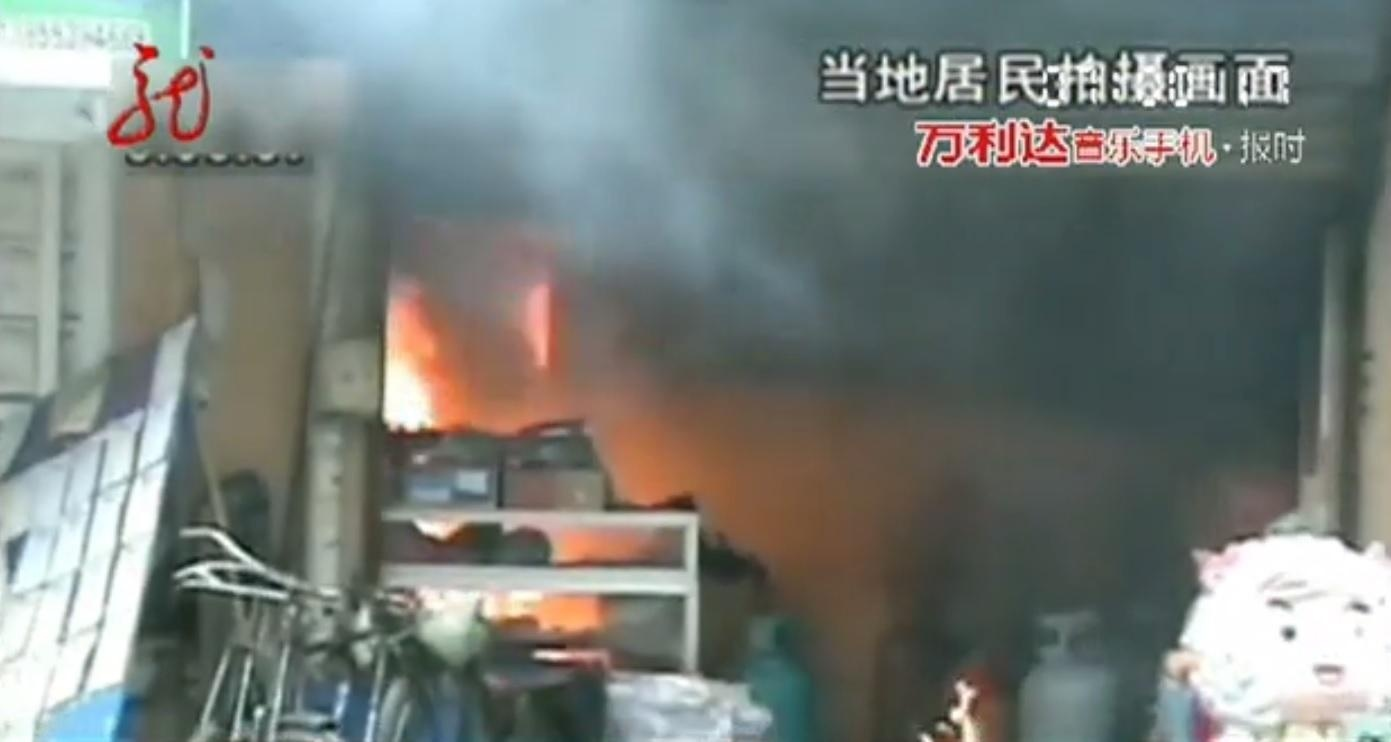fire: (381, 290, 446, 430)
